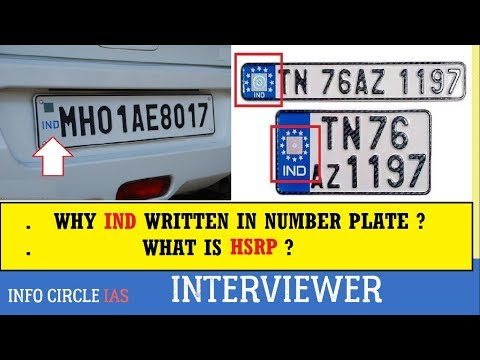number_plate: (26, 88, 221, 150)
